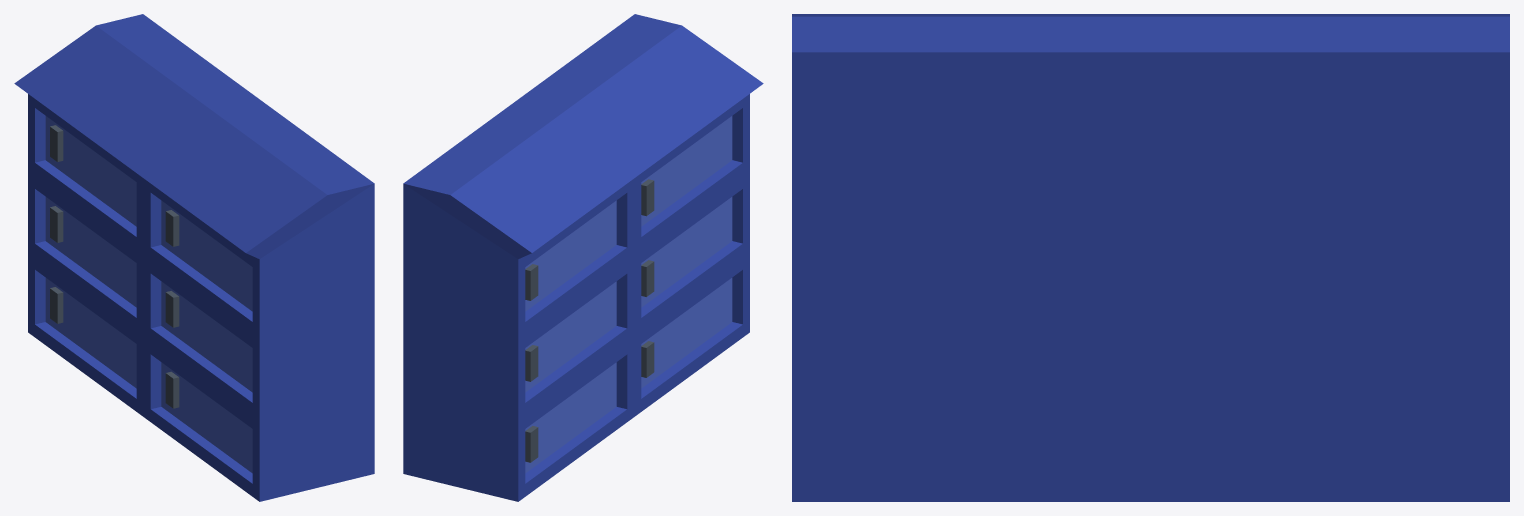
File: PostBox_2_B.fbx
3 renders of one model, left to right at view 1: azimuth 30°, elevation 25°; view 2: azimuth 150°, elevation 25°; view 3: azimuth 270°, elevation 25°, orthographic. The views are drawn at different scales.
Visible parts, largest first — view 1: PostBox_2_B; view 2: PostBox_2_B; view 3: PostBox_2_B.
Part boxes in pixels (bbox=[...]): PostBox_2_B: bbox=[14, 14, 374, 501]; PostBox_2_B: bbox=[403, 14, 763, 501]; PostBox_2_B: bbox=[792, 14, 1509, 501].
Bounding box in the file's own units: 19.48 × 41.93 × 60.65.
